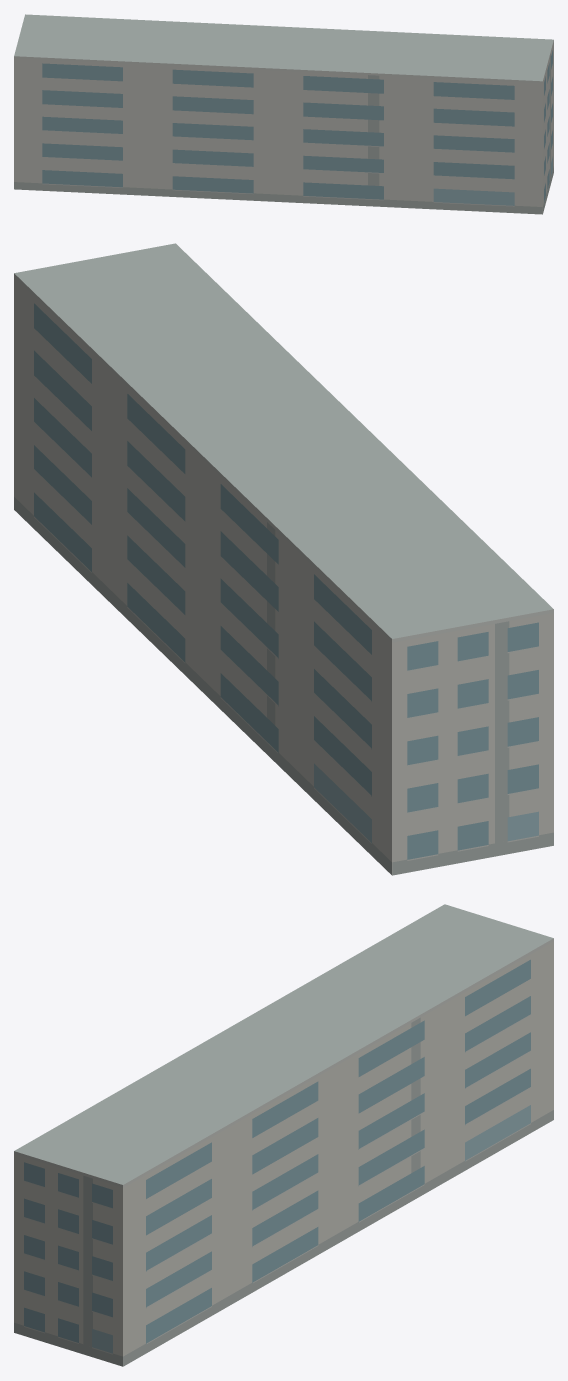
File: residential-9f96c650-4c83-450f-9716-a55531b0f6a7.glb
3 views of the same model, one above another, from view 1: azimuth 30°, elevation 25°; view 2: azimuth 150°, elevation 25°; view 3: azimuth 270°, elevation 25° (orthographic). The views are drawn at different scales.
Visible parts, largest first — view 1: residential-9f96c650-4c83-450f-9716-a55531b0f6a7.tmp; view 2: residential-9f96c650-4c83-450f-9716-a55531b0f6a7.tmp; view 3: residential-9f96c650-4c83-450f-9716-a55531b0f6a7.tmp.
Boxes of the visible parts, x1=… form: residential-9f96c650-4c83-450f-9716-a55531b0f6a7.tmp: x1=14, y1=14, x2=553, y2=214; residential-9f96c650-4c83-450f-9716-a55531b0f6a7.tmp: x1=14, y1=243, x2=553, y2=875; residential-9f96c650-4c83-450f-9716-a55531b0f6a7.tmp: x1=14, y1=904, x2=553, y2=1366.
Size of the model in its own units: 50.56 by 15.25 by 41.08.
